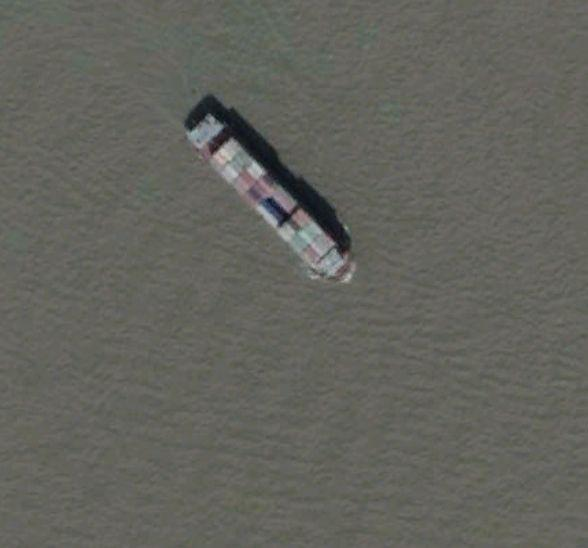Ships: (169, 110, 392, 309)
